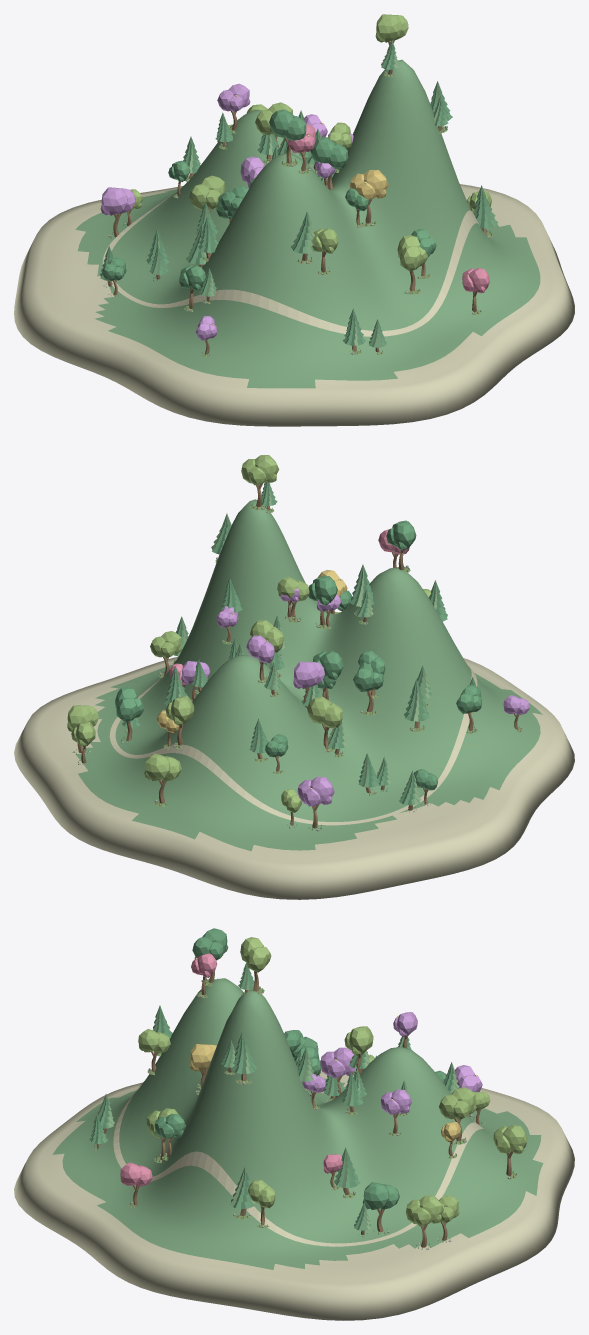
File: green_1.glb
3 views of the same model, one above another, from view 1: azimuth 30°, elevation 25°; view 2: azimuth 150°, elevation 25°; view 3: azimuth 270°, elevation 25° (orthographic). The views are drawn at different scales.
Parts seen in each view (by area): view 1: Green island with submerged coast; view 2: Green island with submerged coast; view 3: Green island with submerged coast.
Boxes of the visible parts, x1,y1,x2,y2 form: Green island with submerged coast: [14, 14, 574, 426]; Green island with submerged coast: [14, 455, 574, 899]; Green island with submerged coast: [14, 928, 574, 1320].
Size of the model in its own units: 53.49 by 30.2 by 53.28.
